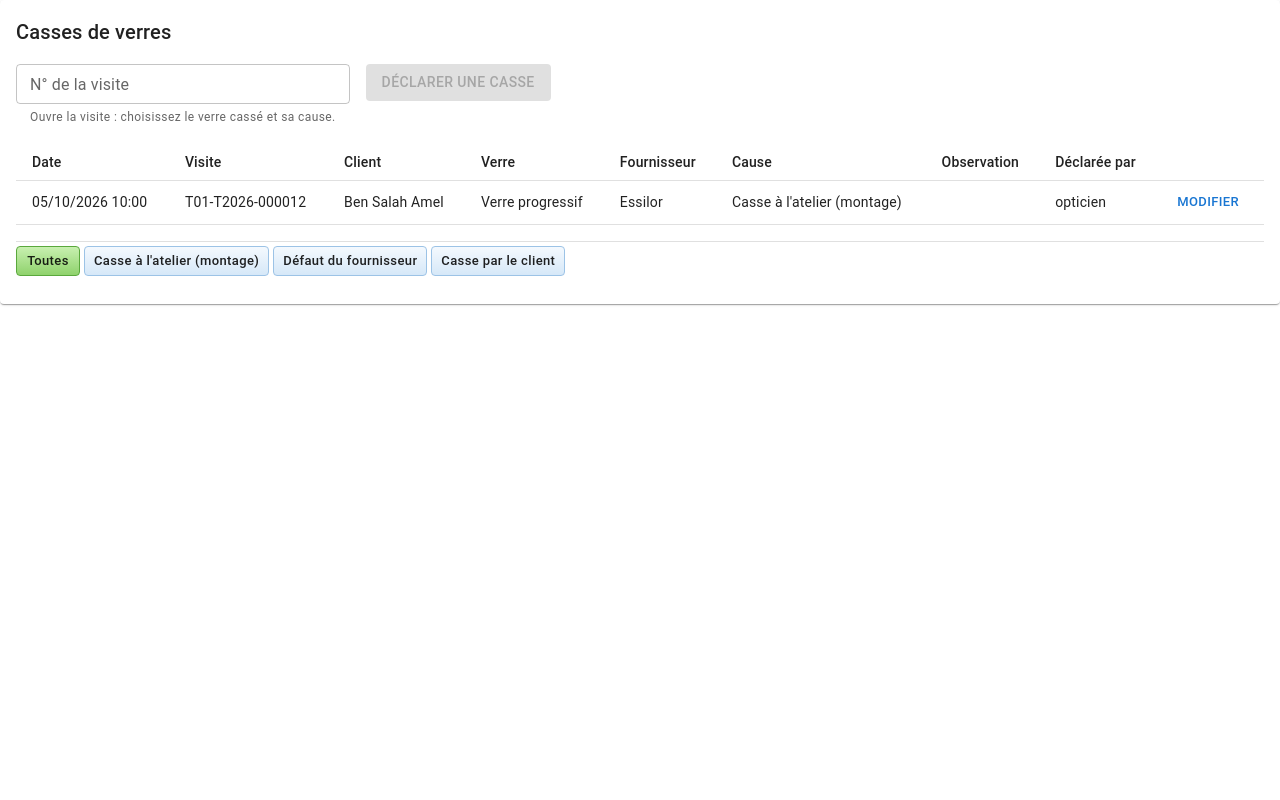
Test: annuler une casse déclarée par erreur, avec le refus du serveur
Click the button "Modifier" at (1208, 202), box [1172,187,1244,218]
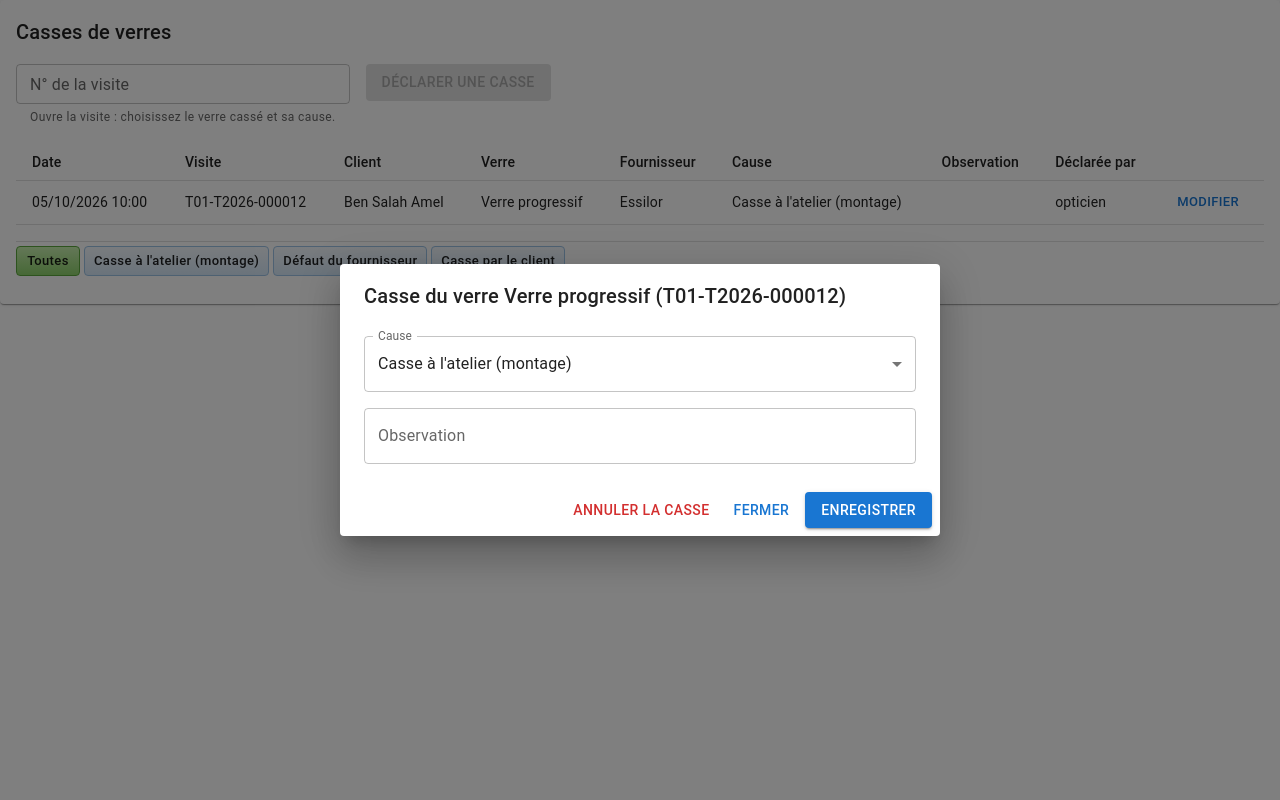
Click the button "Annuler la casse" at (641, 510), box [565,492,718,528]
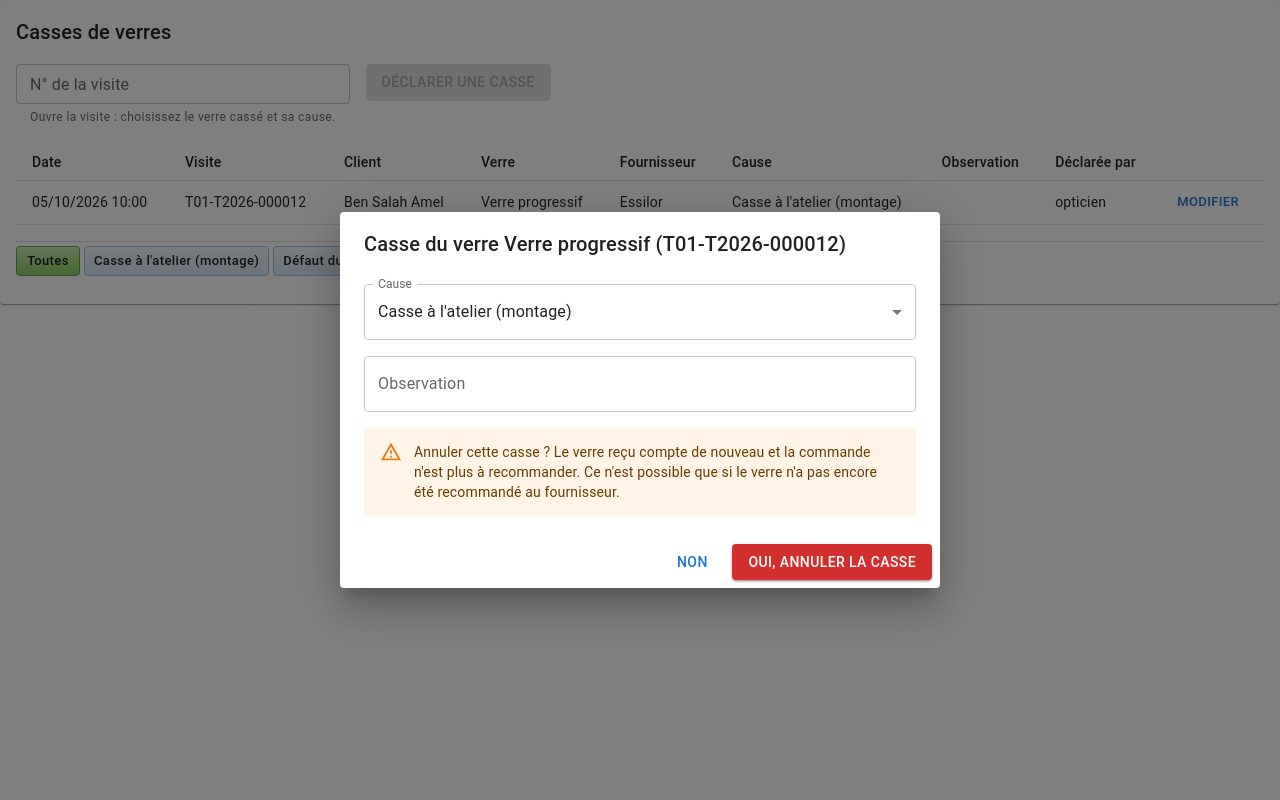
Click the button "Oui, annuler la casse" at (832, 562), box [732,544,932,580]
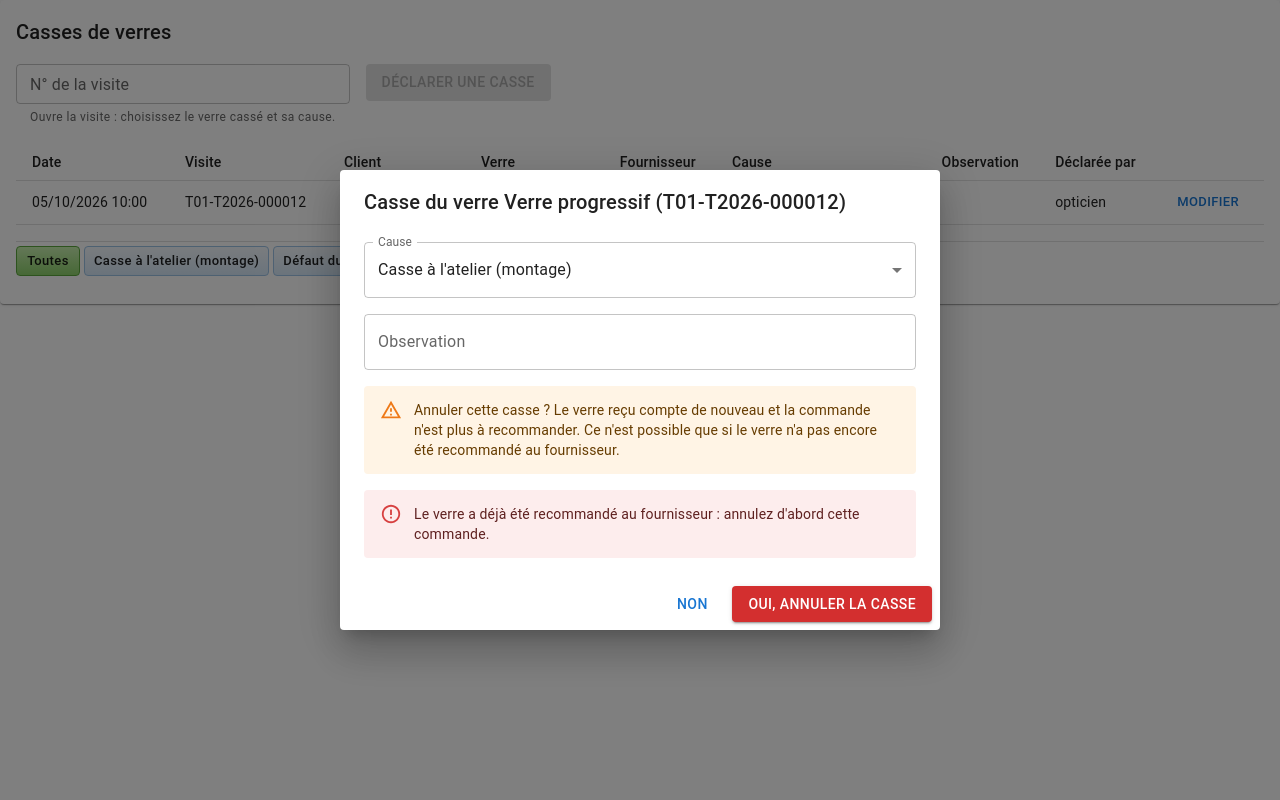
Expected: the text "déjà été recommandé" is shown, [414,506,860,542]
